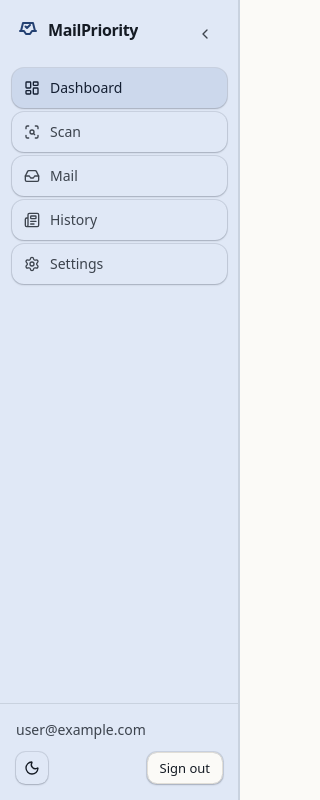
Test case: AppHeader › toggles the desktop sidebar collapse preference in localStorage
The width and height of the screenshot is (320, 800).
What coordinates should you click on to do the following:
click the button named "Collapse sidebar"
I would click on:
 (205, 34)
Its box is 187,16 -> 223,52.
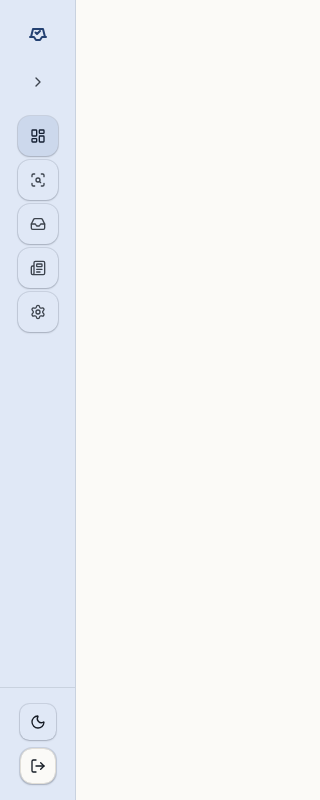
Now the button named "Expand sidebar" is collapsed
What coordinates should you click on to do the following:
click the button named "Expand sidebar"
I would click on:
 (38, 82)
Its box is 20,64 -> 56,100.
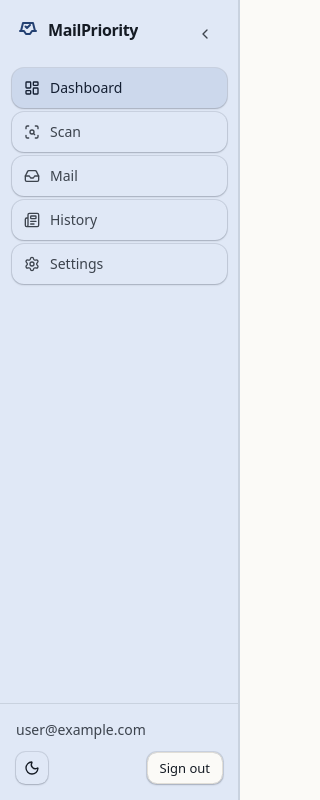
Now the button named "Collapse sidebar" is expanded, box 187,16 -> 223,52
